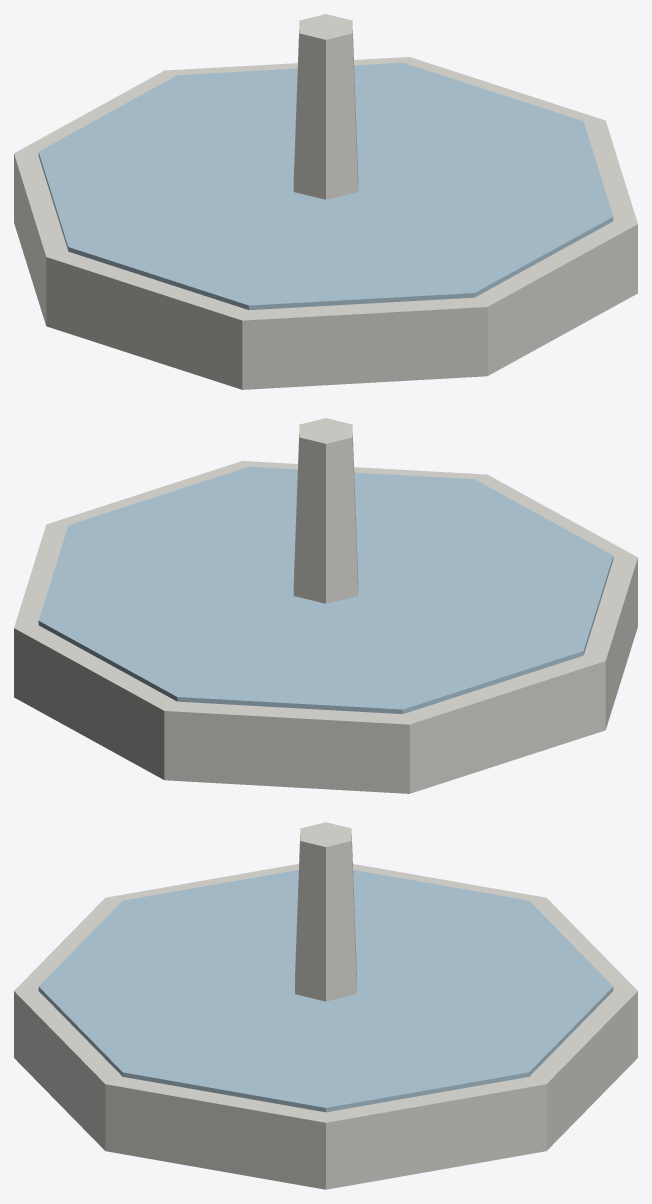
File: fountain-far.glb
3 renders of one model, top to bottom at view 1: azimuth 30°, elevation 25°; view 2: azimuth 150°, elevation 25°; view 3: azimuth 270°, elevation 25°, orthographic. The views are drawn at different scales.
Parts seen in each view (by area): view 1: fountain-far; view 2: fountain-far; view 3: fountain-far.
Boxes of the visible parts, x1,y1,x2,y2 form: fountain-far: (14,14,637,389); fountain-far: (14,418,637,793); fountain-far: (14,822,637,1189).
Bounding box in the file's own units: 1.83 × 0.7212 × 1.83.
